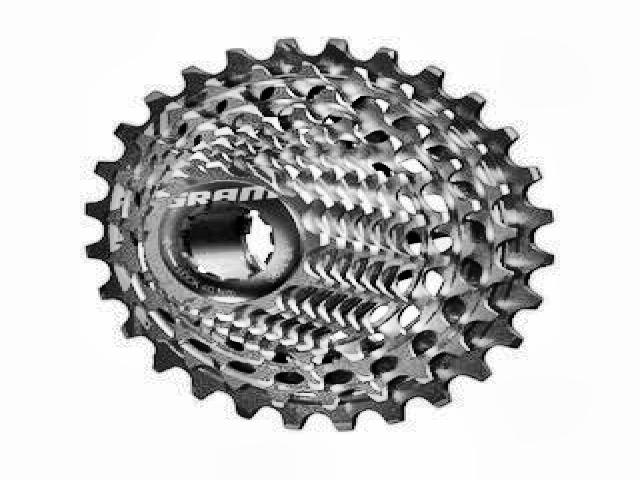cassette: (81, 34, 557, 436)
